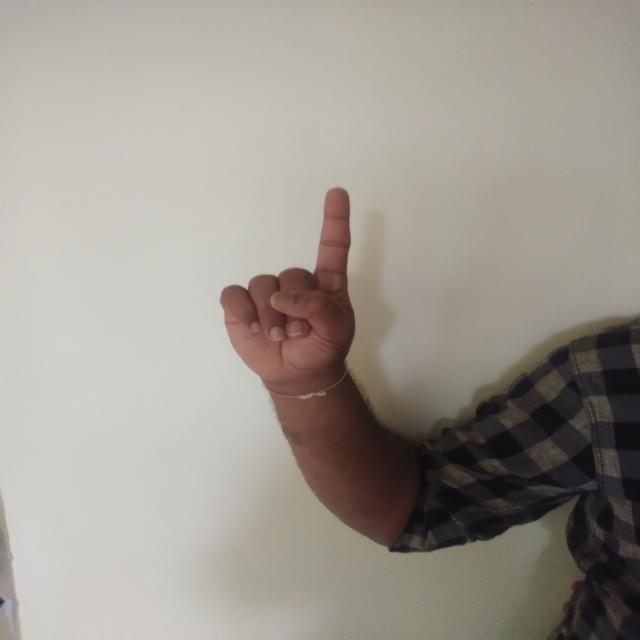IloveYou: (182, 164, 423, 424)
